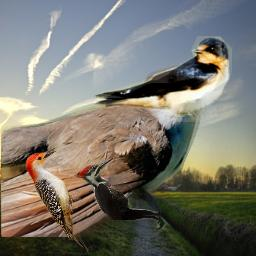Cuckoo: (1, 65, 224, 237)
Swallow: (67, 36, 232, 122)
Woodpecker: (25, 147, 89, 254), (72, 158, 163, 220)
